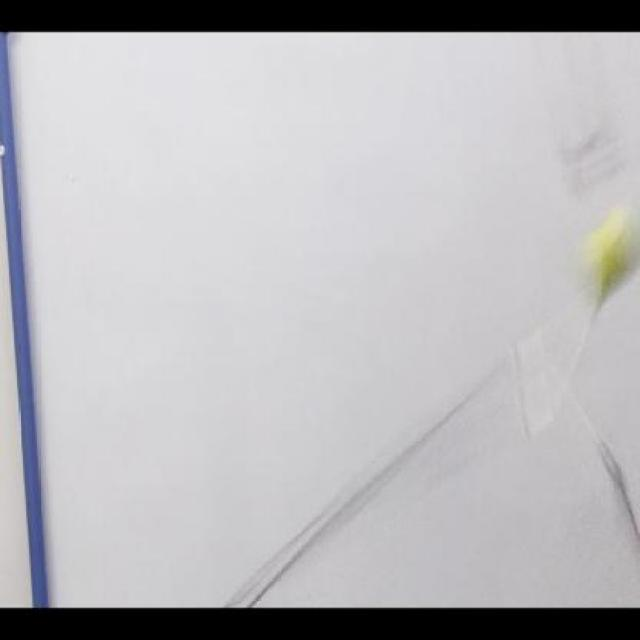baseball: (572, 202, 639, 309)
